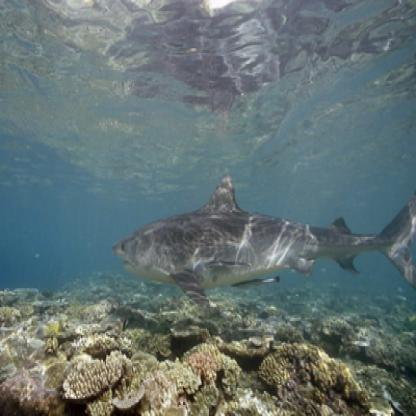shark: (106, 171, 416, 322)
